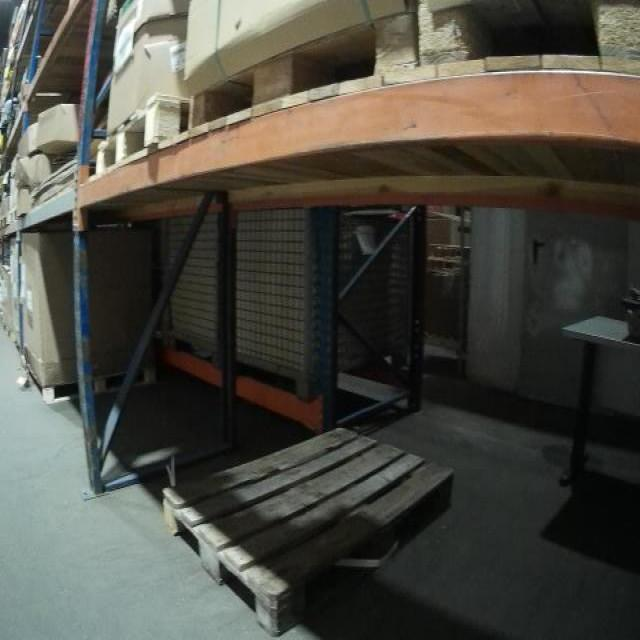pallet: (163, 423, 457, 636), (188, 4, 418, 134), (417, 0, 640, 83), (93, 93, 193, 178), (24, 358, 160, 406)
stillage: (229, 212, 428, 396), (163, 221, 221, 368)
